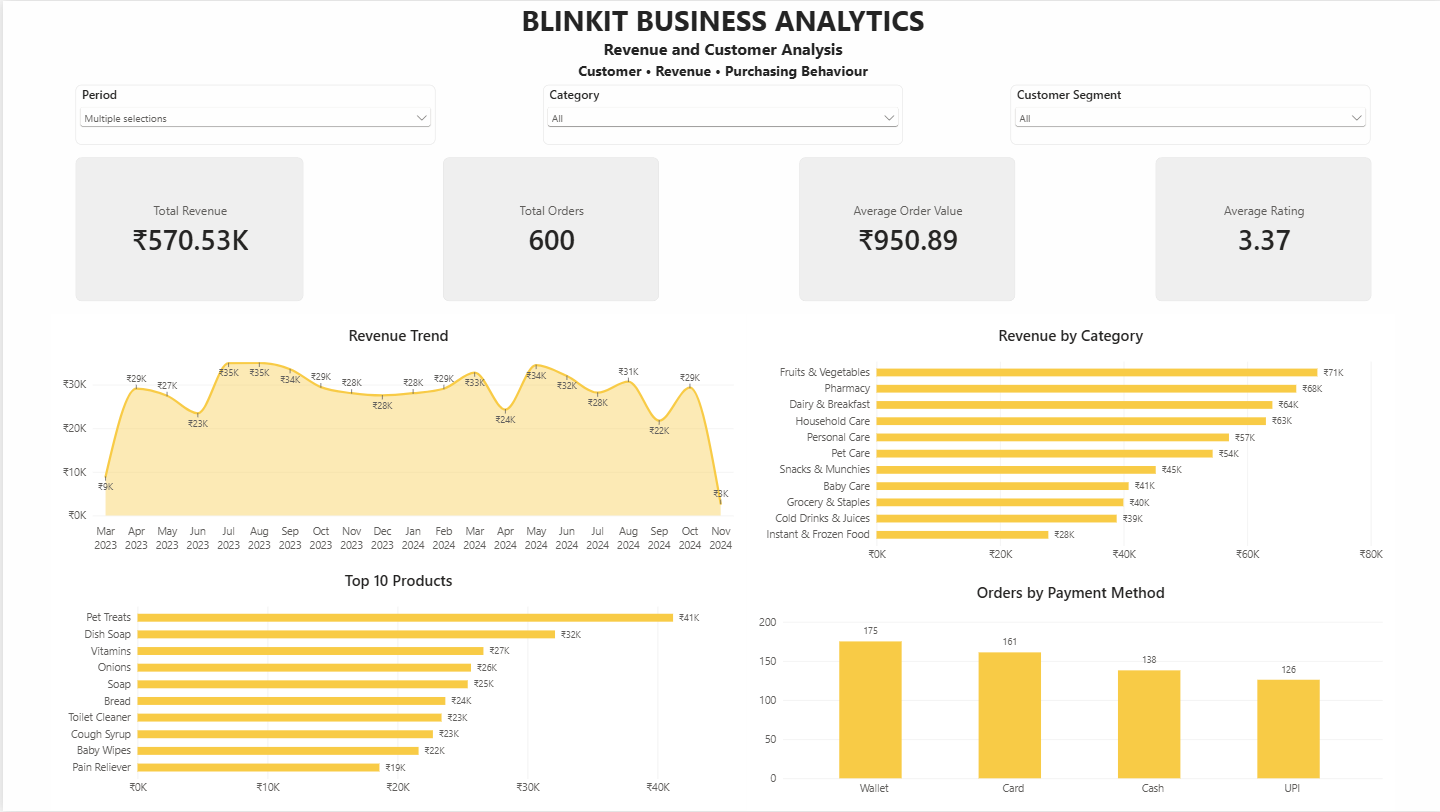

This screenshot's page, from the dashboard's own definition file:
{"tool":"powerbi","page":{"name":"Revenue and Customer Analysis","canvas":[1920,1080],"ordinal":1},"visuals":[{"type":"textbox","box":[0,0,1920,80],"z":0},{"type":"textbox","box":[0,48,1920,64],"z":1000},{"type":"textbox","box":[0,80,1920,64],"z":2000},{"type":"slicer","fields":{"Values":["Date_Table.Month Year"]},"box":[96,112,480,80],"z":3000},{"type":"slicer","fields":{"Values":["blinkit_customers.Customer Segment"]},"box":[1344,112,480,80],"z":4000},{"type":"cardVisual","fields":{"Data":["blinkit_orders.Total Revenue"]},"box":[96,208,304,192],"z":5000},{"type":"cardVisual","fields":{"Data":["blinkit_orders.Total Orders"]},"box":[586.7,208,288,192],"z":6000},{"type":"cardVisual","fields":{"Data":["blinkit_orders.Average Order Value"]},"box":[1061.3,208,288,192],"z":7000},{"type":"cardVisual","fields":{"Data":["blinkit_orders.Average Rating"]},"box":[1536,208,288,192],"z":8000},{"type":"areaChart","title":"Revenue Trend","fields":{"Category":["Date_Table.Month Year"],"Y":["blinkit_orders.Total Revenue"]},"box":[64,416,928,336],"z":9000},{"type":"barChart","title":"Revenue by Category","fields":{"Category":["blinkit_products.Category"],"Y":["blinkit_orders.Total Revenue"]},"box":[992,416,864,352],"z":10000},{"type":"clusteredBarChart","title":"Top 10 Products","fields":{"Category":["blinkit_products.product_name"],"Y":["blinkit_orders.Total Revenue"]},"box":[64,744,928,336],"z":11000},{"type":"clusteredColumnChart","title":"Orders by Payment Method","fields":{"Category":["blinkit_orders.payment_method"],"Y":["blinkit_orders.Total Orders"]},"box":[992,760,864,320],"z":12000},{"type":"slicer","fields":{"Values":["blinkit_products.Category"]},"box":[720,112,480,80],"z":13000}]}

Visuals, with their boxes in screenshot pixels (x1, y1, x2, y2), scaled from the page's 1920x1080 canvas onto the 1440x812 screenshot:
textbox: x1=0 y1=0 x2=1439 y2=60
textbox: x1=0 y1=36 x2=1439 y2=84
textbox: x1=0 y1=60 x2=1439 y2=108
slicer - Date_Table.Month Year: x1=72 y1=84 x2=432 y2=144
slicer - blinkit_customers.Customer Segment: x1=1008 y1=84 x2=1368 y2=144
cardVisual - blinkit_orders.Total Revenue: x1=72 y1=156 x2=300 y2=301
cardVisual - blinkit_orders.Total Orders: x1=440 y1=156 x2=656 y2=301
cardVisual - blinkit_orders.Average Order Value: x1=796 y1=156 x2=1012 y2=301
cardVisual - blinkit_orders.Average Rating: x1=1152 y1=156 x2=1368 y2=301
"Revenue Trend" areaChart: x1=48 y1=313 x2=744 y2=565
"Revenue by Category" barChart: x1=744 y1=313 x2=1392 y2=577
"Top 10 Products" clusteredBarChart: x1=48 y1=559 x2=744 y2=811
"Orders by Payment Method" clusteredColumnChart: x1=744 y1=571 x2=1392 y2=811
slicer - blinkit_products.Category: x1=540 y1=84 x2=900 y2=144
